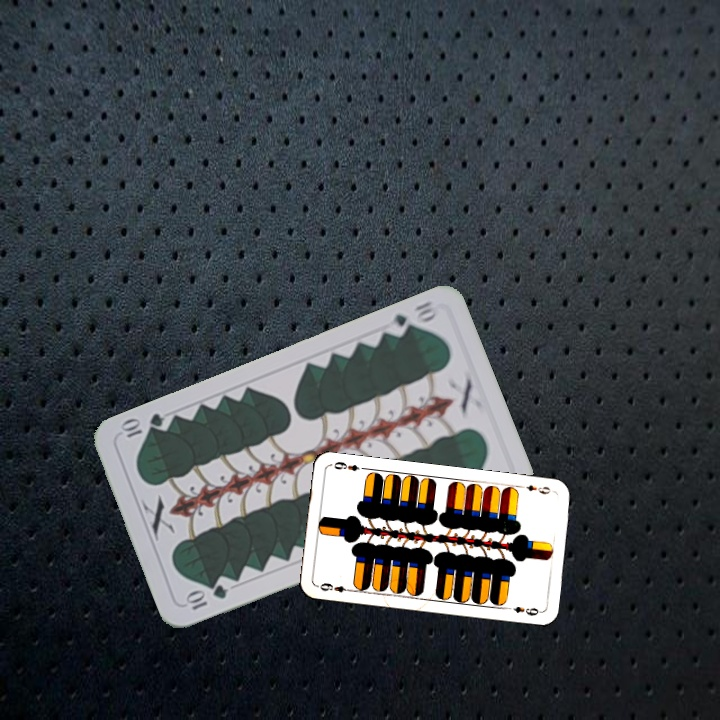E9: (316, 579, 355, 595), (522, 481, 556, 497)
G10: (382, 297, 439, 340), (181, 581, 231, 613)
